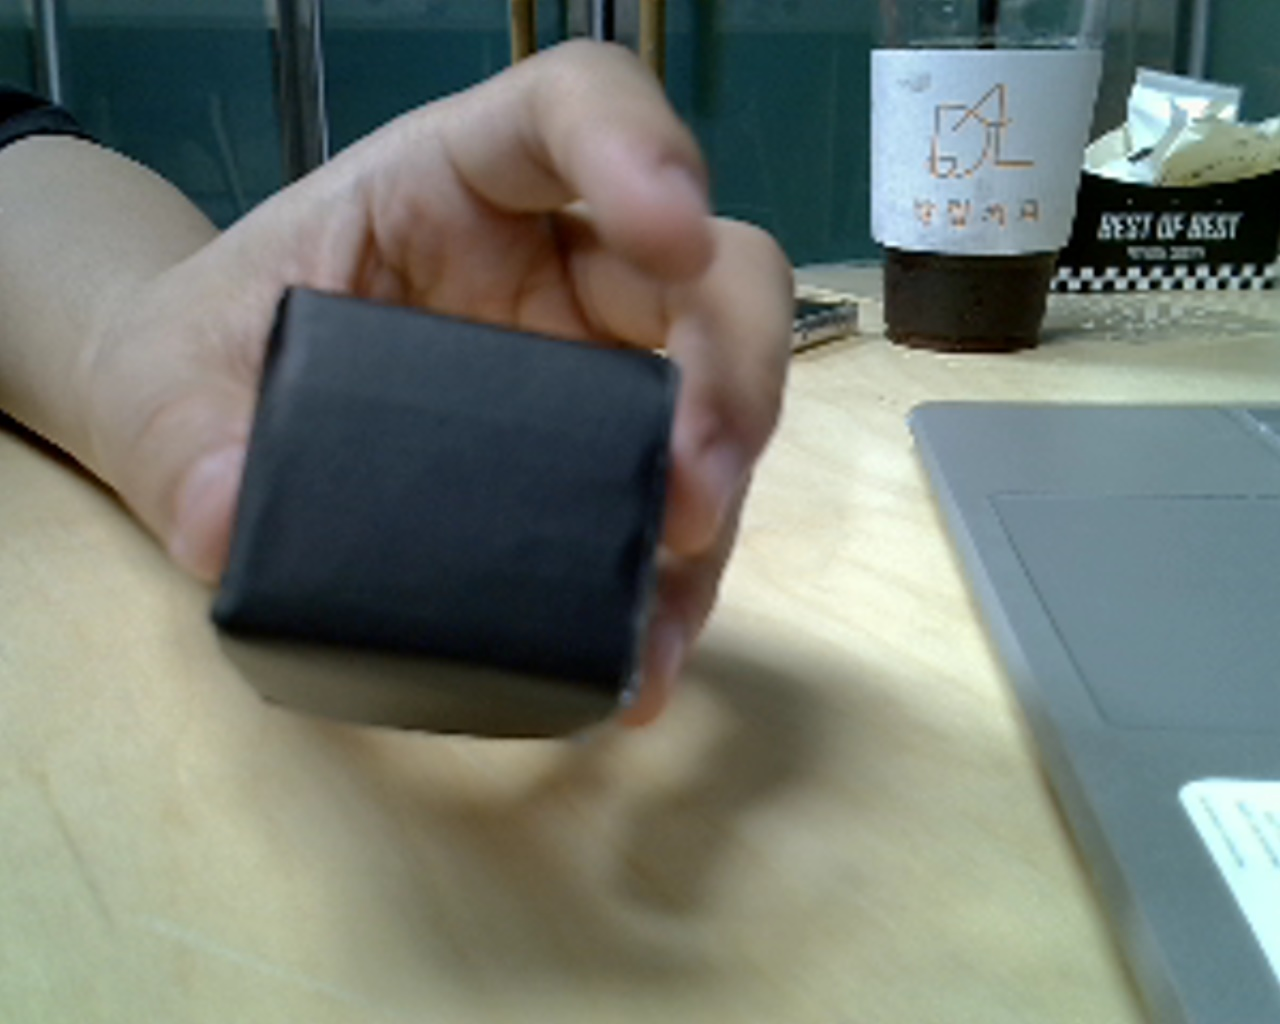blackbox: (166, 245, 764, 805)
